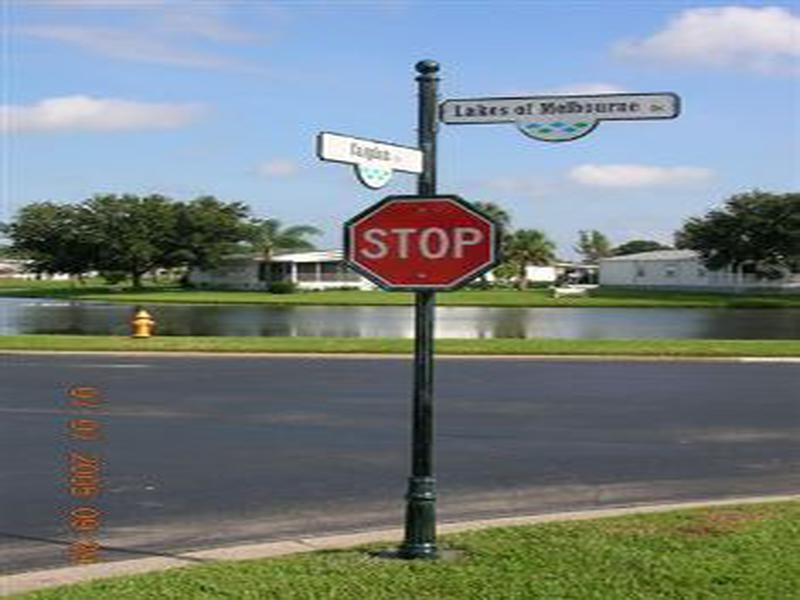stop: (340, 191, 502, 293)
